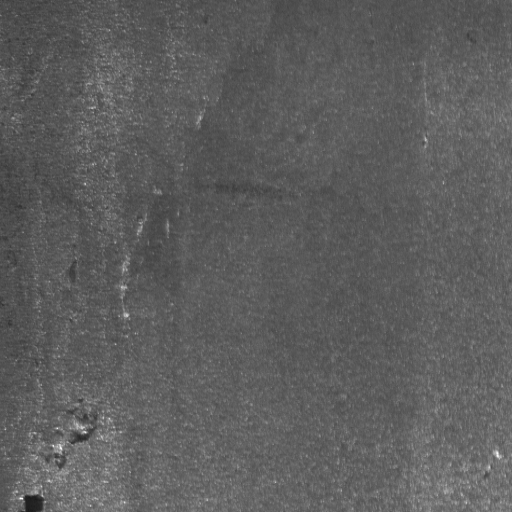aokeng: (39, 403, 101, 476)
